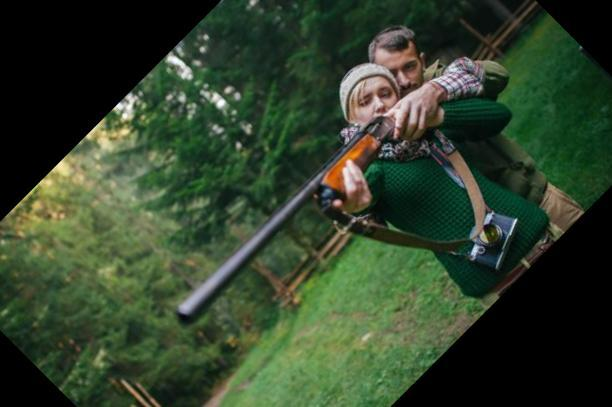larga: (176, 115, 395, 328)
